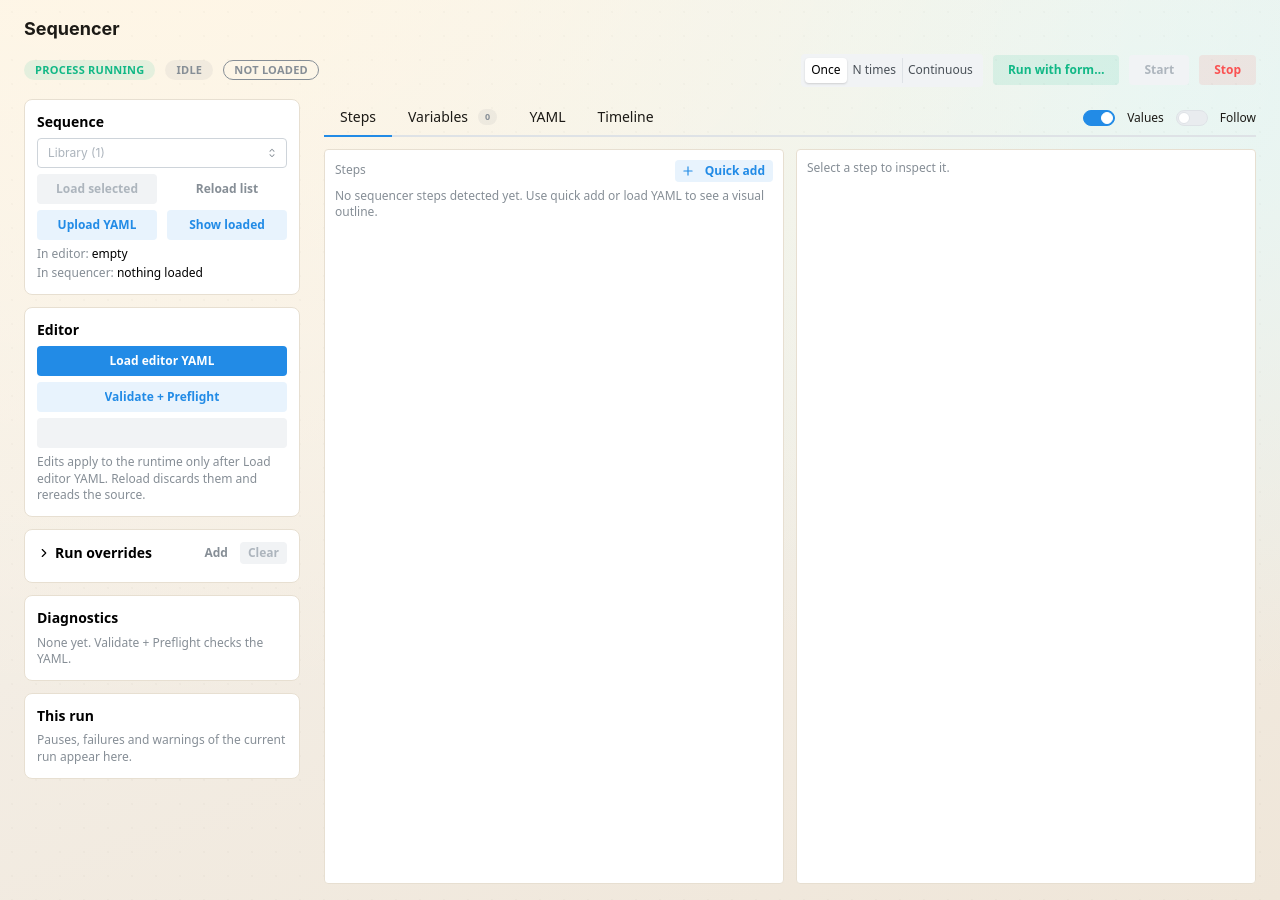
Test case: SequencerModal run form › opens the form of a library sequence while nothing else changes
Click the button "Run with form…".
click(1056, 70)  # box [993, 55, 1119, 85]
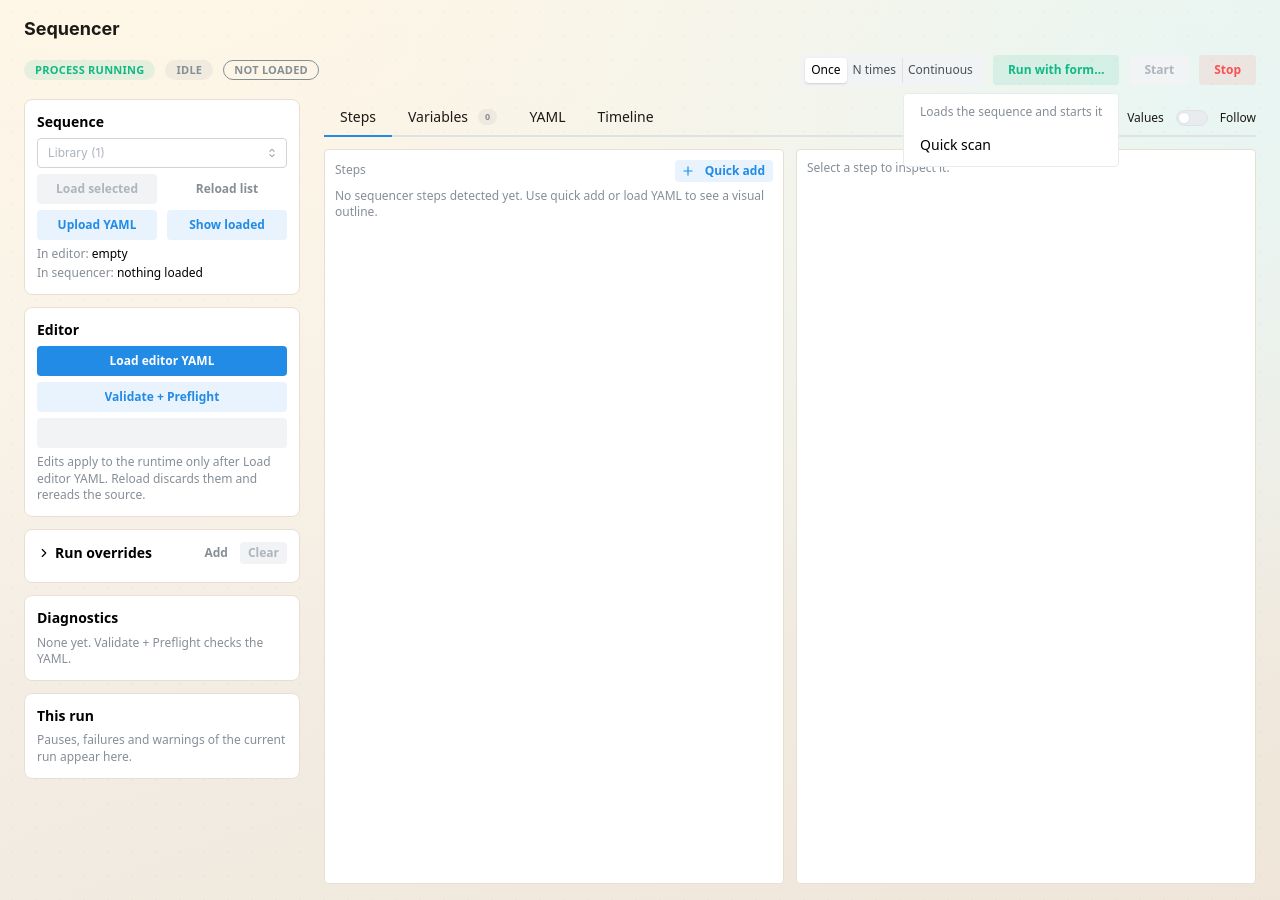
Expected: the menu item "Quick scan" is shown
# No prop changes after the click: the dialog must still appear.
Click the menu item "Quick scan".
click(1011, 144)  # box [908, 127, 1114, 162]
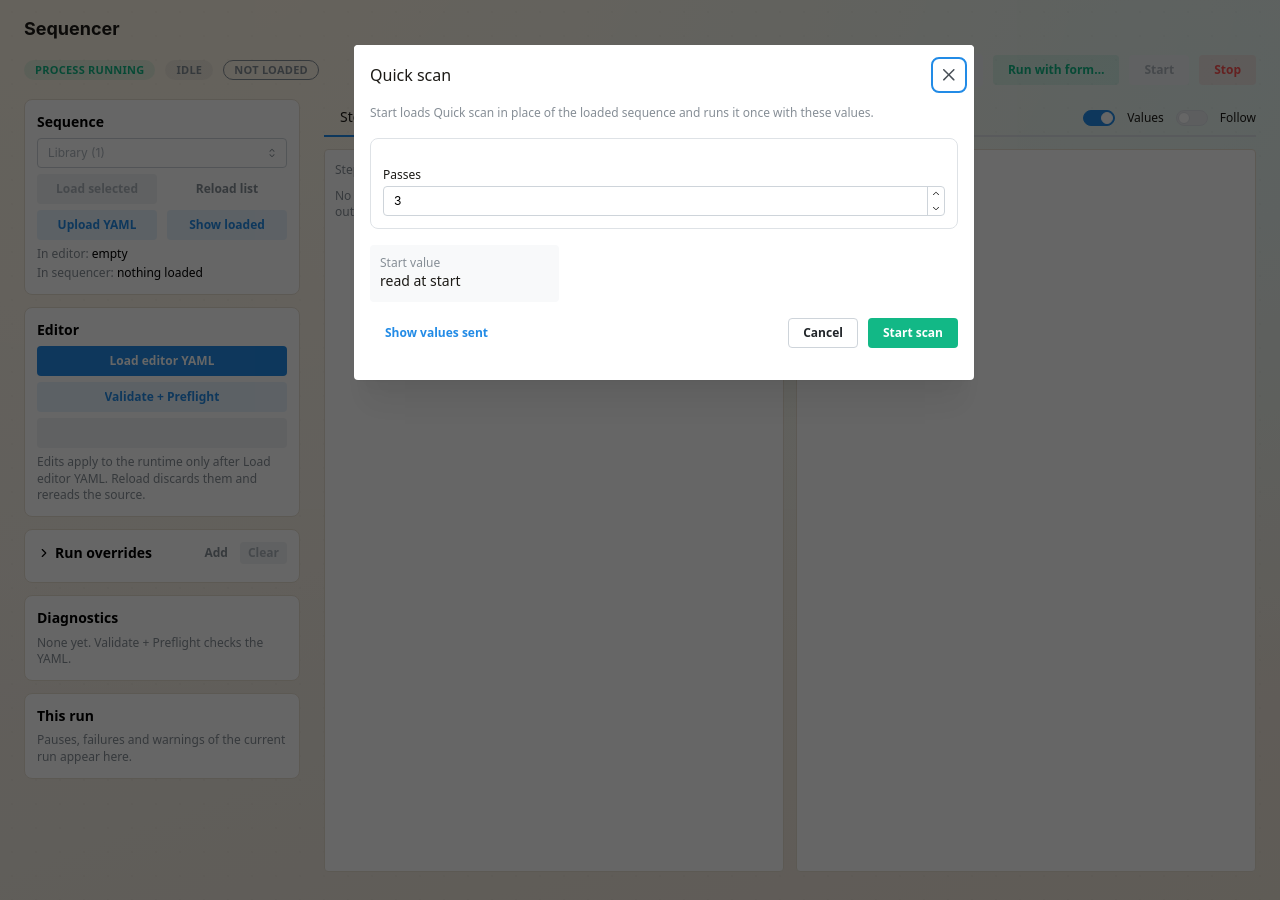
Expected: the text "Passes" is shown, [383, 166, 421, 184]
